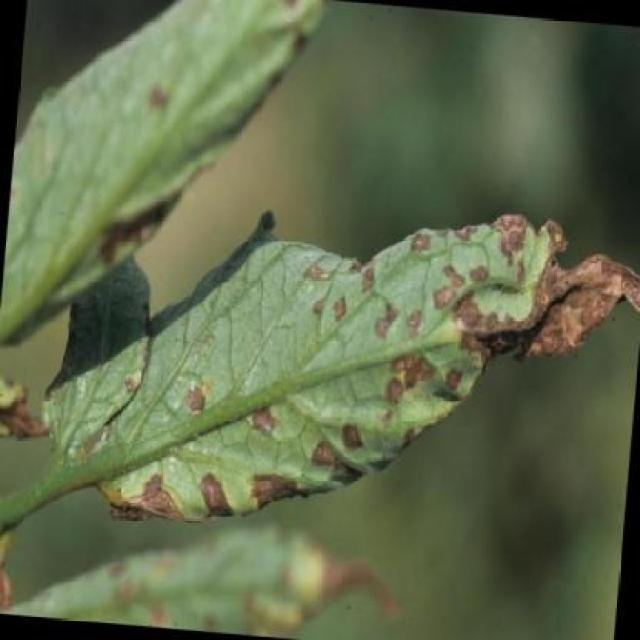Tomato leaf bacterial spot: (37, 161, 640, 577)
